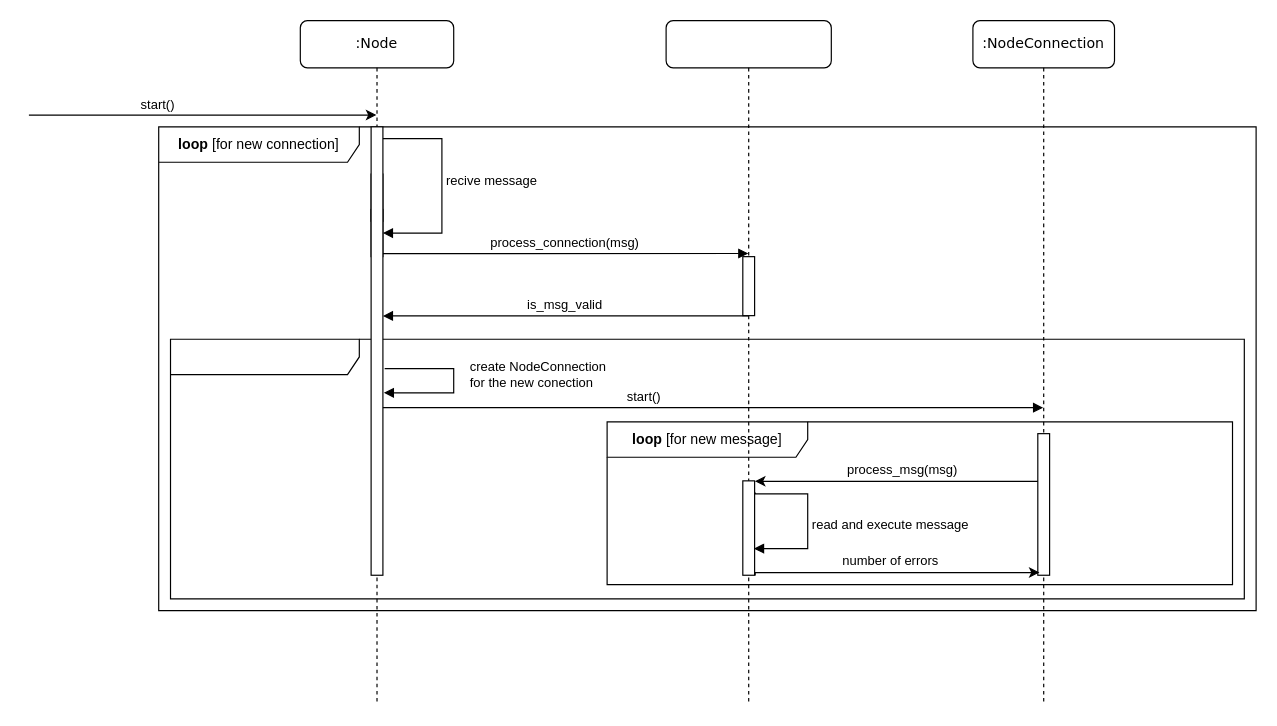
Image size: 1277x726. Some labels were removed from this diagram. Each missing label, with the box of its shape:
:ComunicationProtocol: (665, 19, 831, 705)
alt [if is_mgs_valid is true]: (169, 338, 1244, 599)
